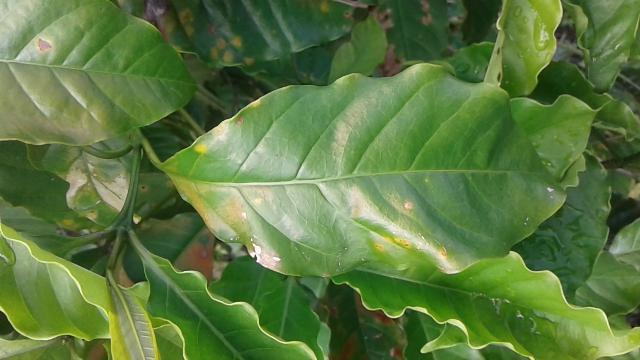rust_level_1: (160, 63, 566, 274)
